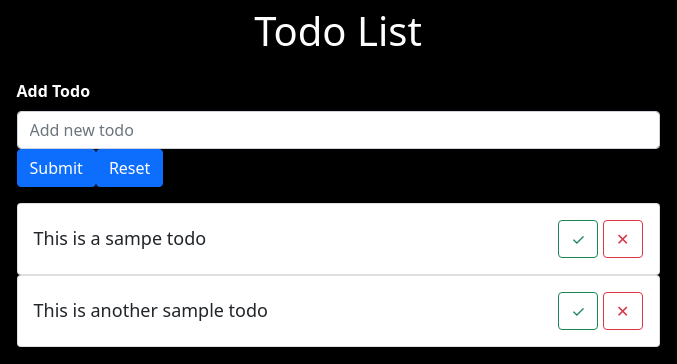
Test: Test todo app › Delete completed todo item
This screenshot has width=677, height=364.
Click the button with class "btn-outline-success" in the row of "This is a sampe todo" at [578, 239], box left=558, top=220, right=598, bottom=258
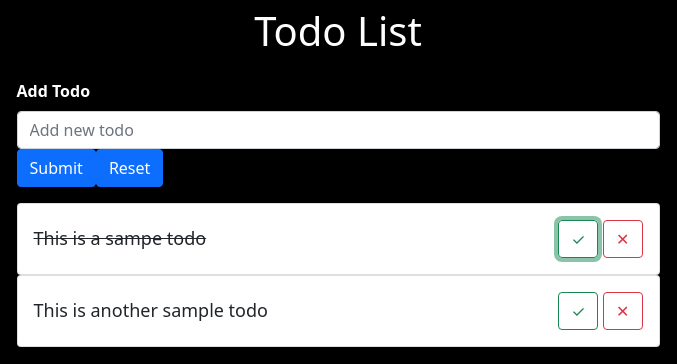
Click the button with class "btn-outline-danger" in the row of "This is a sampe todo" at [623, 239], box left=603, top=220, right=642, bottom=258
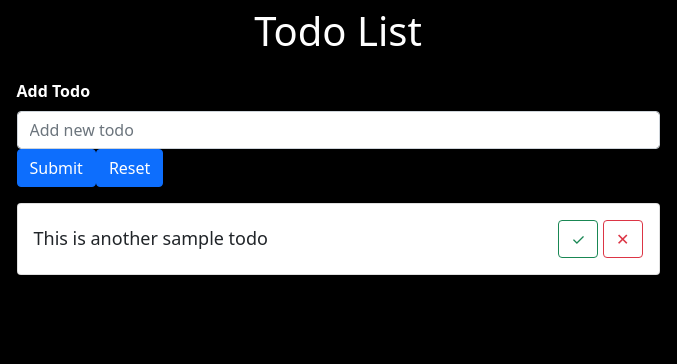
Check: the number of elements with class "todo" is 1, box left=34, top=220, right=643, bottom=258
